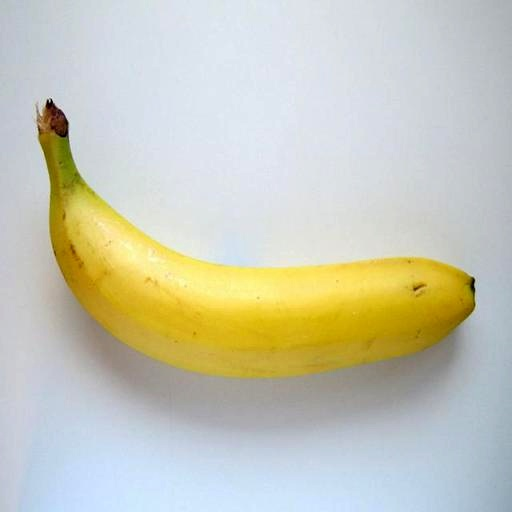fruit: (38, 100, 474, 376)
